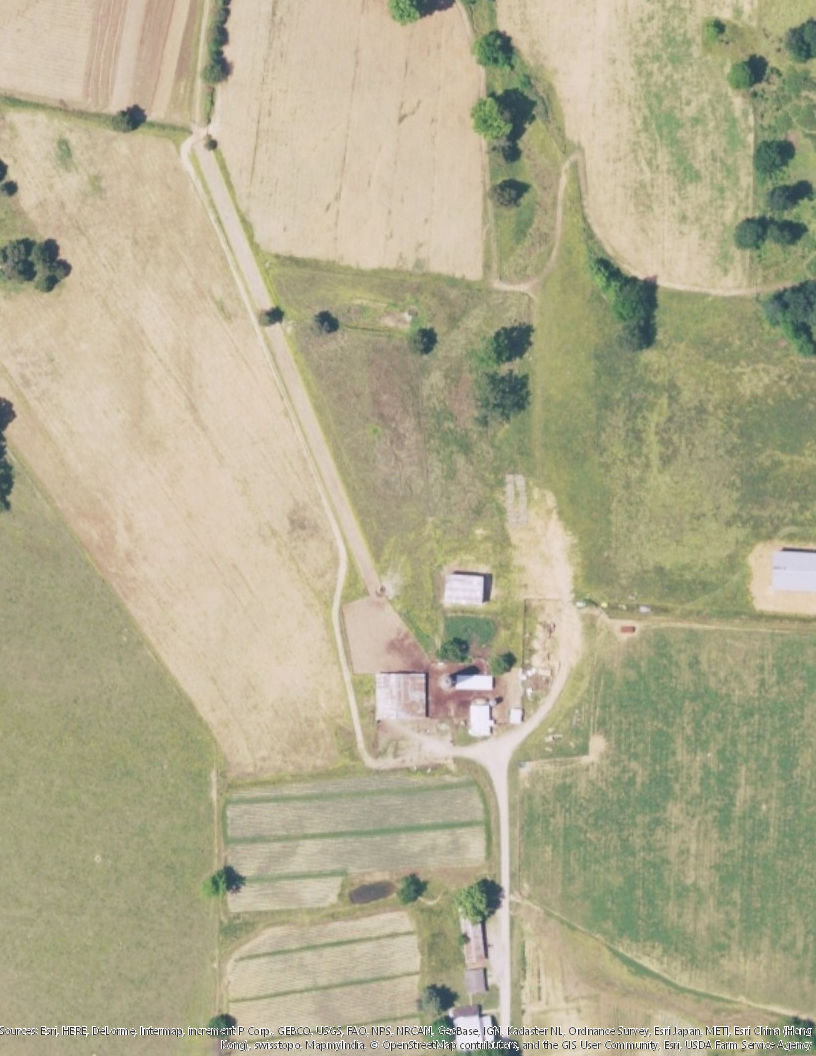cafo: (368, 662, 504, 740), (441, 565, 491, 608)
